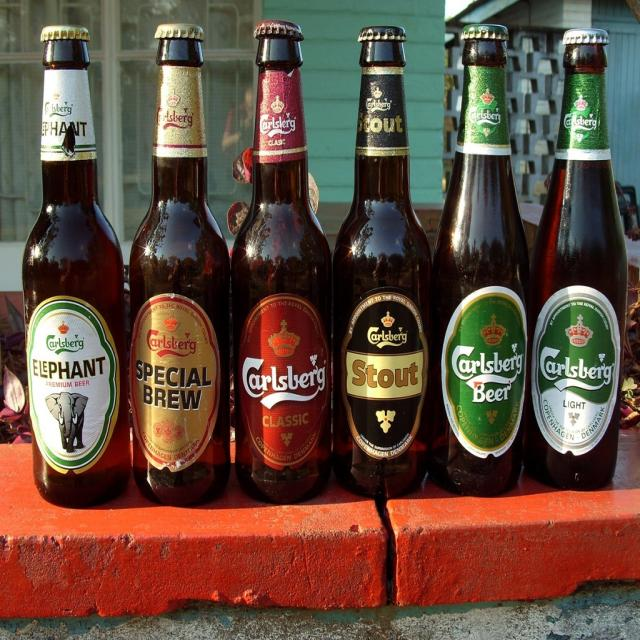carlsberg: (531, 289, 621, 450), (445, 291, 529, 457), (467, 83, 508, 141), (564, 94, 605, 146)
